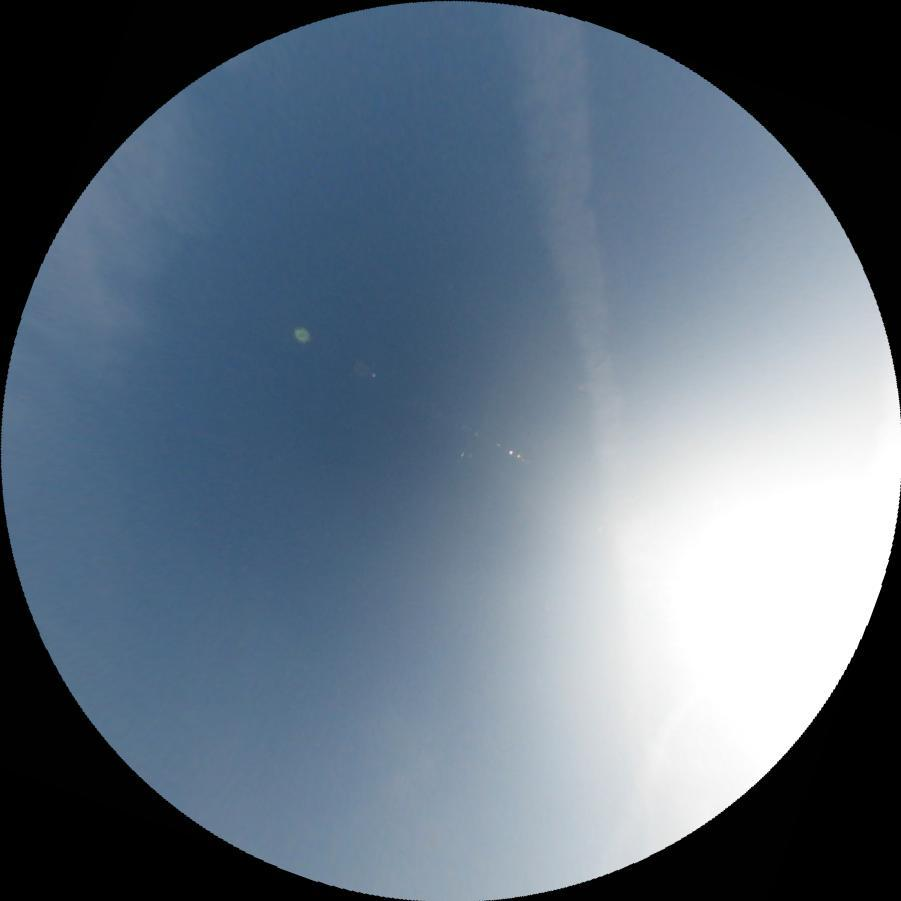sun: (655, 449, 901, 717)
